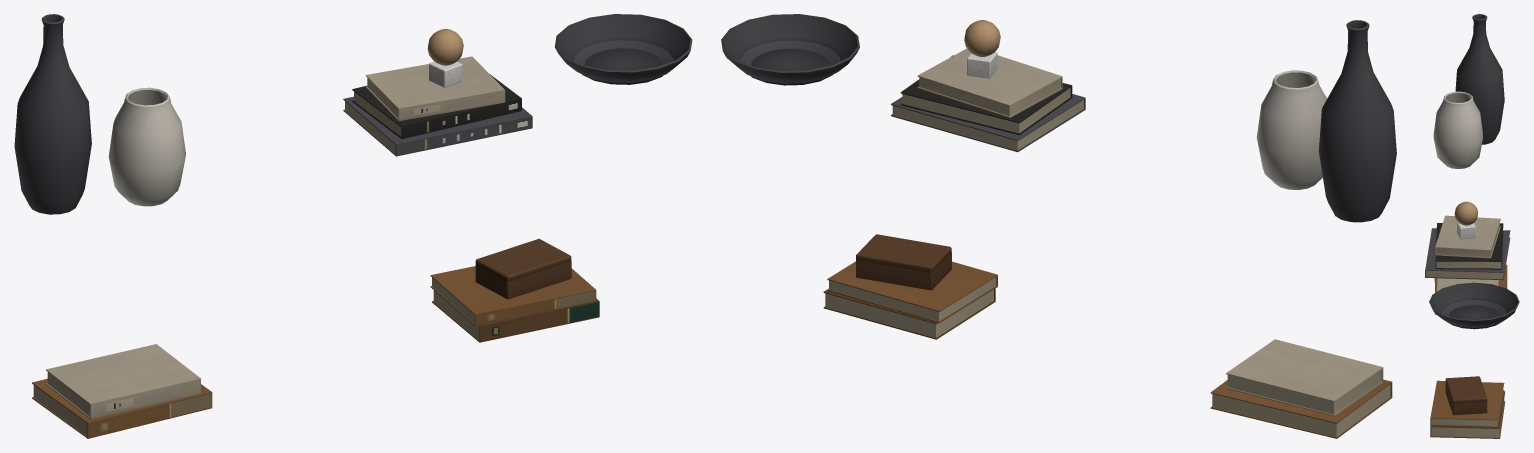
The model's file is decor_a_console.gltf.
3 renders of one model, left to right at view 1: azimuth 30°, elevation 25°; view 2: azimuth 150°, elevation 25°; view 3: azimuth 270°, elevation 25°, orthographic. The views are drawn at different scales.
Parts seen in each view (by area): view 1: DecorAConsole_Vase01_Charcoal_NoCollide, DecorAConsole_Bowl01_Charcoal_NoCollide, DecorAConsole_Book05_Spines_NoCollide, DecorAConsole_Vase02_Glaze_NoCollide, DecorAConsole_Book03_Spines_NoCollide, DecorAConsole_Book07_Spines_NoCollide, DecorAConsole_Box01_Walnut_NoCollide, DecorAConsole_Book04_Spines_NoCollide, DecorAConsole_Book01_Spines_NoCollide, DecorAConsole_Book02_Spines_NoCollide, DecorAConsole_Book06_Spines_NoCollide, DecorAConsole_Ornament01_Bronze_NoCollide (+1 smaller); view 2: DecorAConsole_Vase01_Charcoal_NoCollide, DecorAConsole_Bowl01_Charcoal_NoCollide, DecorAConsole_Book05_Spines_NoCollide, DecorAConsole_Vase02_Glaze_NoCollide, DecorAConsole_Book03_Spines_NoCollide, DecorAConsole_Book07_Spines_NoCollide, DecorAConsole_Book04_Spines_NoCollide, DecorAConsole_Box01_Walnut_NoCollide, DecorAConsole_Book01_Spines_NoCollide, DecorAConsole_Book02_Spines_NoCollide, DecorAConsole_Book06_Spines_NoCollide, DecorAConsole_Ornament01_Bronze_NoCollide (+1 smaller); view 3: DecorAConsole_Vase01_Charcoal_NoCollide, DecorAConsole_Bowl01_Charcoal_NoCollide, DecorAConsole_Vase02_Glaze_NoCollide, DecorAConsole_Book03_Spines_NoCollide, DecorAConsole_Book07_Spines_NoCollide, DecorAConsole_Box01_Walnut_NoCollide, DecorAConsole_Book01_Spines_NoCollide, DecorAConsole_Book02_Spines_NoCollide, DecorAConsole_Book06_Spines_NoCollide, DecorAConsole_Ornament01_Bronze_NoCollide, DecorAConsole_Book05_Spines_NoCollide, DecorAConsole_Ornament01_Marble_NoCollide (+1 smaller).
Boxes of the visible parts, <box> form: DecorAConsole_Vase01_Charcoal_NoCollide: <box>14,14,91,214</box>; DecorAConsole_Bowl01_Charcoal_NoCollide: <box>555,14,692,84</box>; DecorAConsole_Book05_Spines_NoCollide: <box>46,344,200,419</box>; DecorAConsole_Vase02_Glaze_NoCollide: <box>108,87,185,206</box>; DecorAConsole_Book03_Spines_NoCollide: <box>365,56,505,120</box>; DecorAConsole_Book07_Spines_NoCollide: <box>430,266,596,326</box>; DecorAConsole_Box01_Walnut_NoCollide: <box>475,238,571,299</box>; DecorAConsole_Book04_Spines_NoCollide: <box>32,378,212,438</box>; DecorAConsole_Book01_Spines_NoCollide: <box>343,96,532,156</box>; DecorAConsole_Book02_Spines_NoCollide: <box>352,74,521,139</box>; DecorAConsole_Book06_Spines_NoCollide: <box>432,290,599,342</box>; DecorAConsole_Ornament01_Bronze_NoCollide: <box>427,29,463,65</box>; DecorAConsole_Vase01_Charcoal_NoCollide: <box>1318,20,1396,222</box>; DecorAConsole_Bowl01_Charcoal_NoCollide: <box>721,14,859,85</box>; DecorAConsole_Book05_Spines_NoCollide: <box>1226,339,1383,416</box>; DecorAConsole_Vase02_Glaze_NoCollide: <box>1256,70,1326,189</box>; DecorAConsole_Book03_Spines_NoCollide: <box>917,48,1062,117</box>; DecorAConsole_Book07_Spines_NoCollide: <box>827,261,997,323</box>; DecorAConsole_Book04_Spines_NoCollide: <box>1210,379,1392,438</box>; DecorAConsole_Box01_Walnut_NoCollide: <box>856,234,951,290</box>; DecorAConsole_Book01_Spines_NoCollide: <box>891,94,1085,152</box>; DecorAConsole_Book02_Spines_NoCollide: <box>900,55,1072,135</box>; DecorAConsole_Book06_Spines_NoCollide: <box>823,288,995,339</box>; DecorAConsole_Ornament01_Bronze_NoCollide: <box>964,20,1000,56</box>; DecorAConsole_Vase01_Charcoal_NoCollide: <box>1455,14,1504,144</box>; DecorAConsole_Bowl01_Charcoal_NoCollide: <box>1429,282,1519,329</box>; DecorAConsole_Vase02_Glaze_NoCollide: <box>1433,91,1482,168</box>; DecorAConsole_Book03_Spines_NoCollide: <box>1435,215,1500,258</box>; DecorAConsole_Book07_Spines_NoCollide: <box>1430,380,1504,427</box>; DecorAConsole_Box01_Walnut_NoCollide: <box>1445,376,1487,415</box>; DecorAConsole_Book01_Spines_NoCollide: <box>1425,228,1510,280</box>; DecorAConsole_Book02_Spines_NoCollide: <box>1435,223,1503,269</box>; DecorAConsole_Book06_Spines_NoCollide: <box>1430,391,1505,438</box>; DecorAConsole_Ornament01_Bronze_NoCollide: <box>1454,201,1477,225</box>; DecorAConsole_Book05_Spines_NoCollide: <box>1436,278,1498,291</box>; DecorAConsole_Ornament01_Marble_NoCollide: <box>1457,221,1475,239</box>.
Size of the model in its own units: 1.87 by 1.07 by 0.3546.
Materials: 7 (3 with a texture image).
